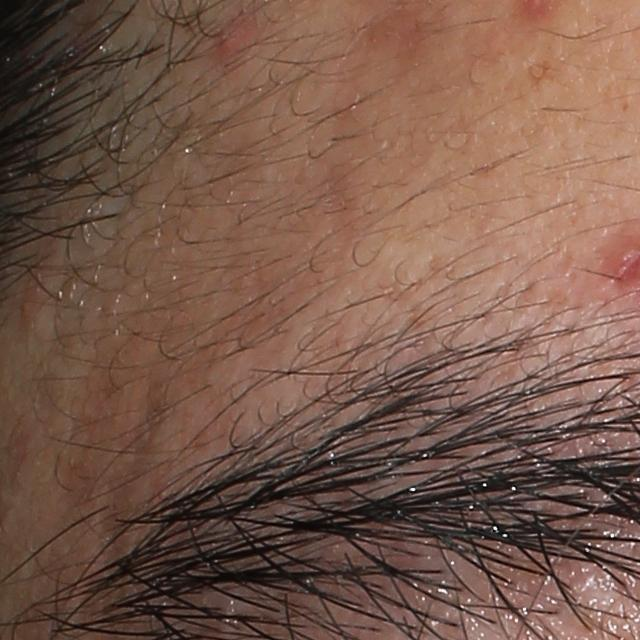papule: (214, 17, 247, 70)
